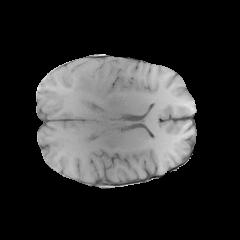glioma: (62, 62, 107, 100)
